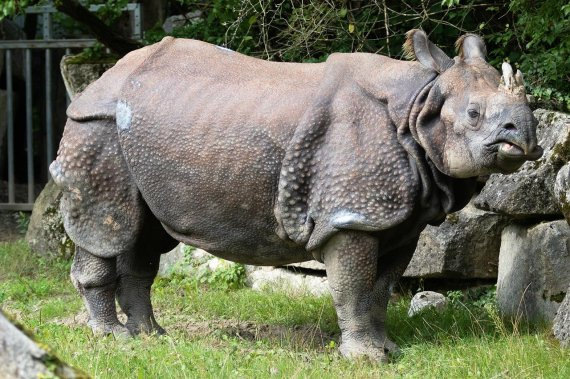Rhinoceros: (56, 23, 548, 370)
